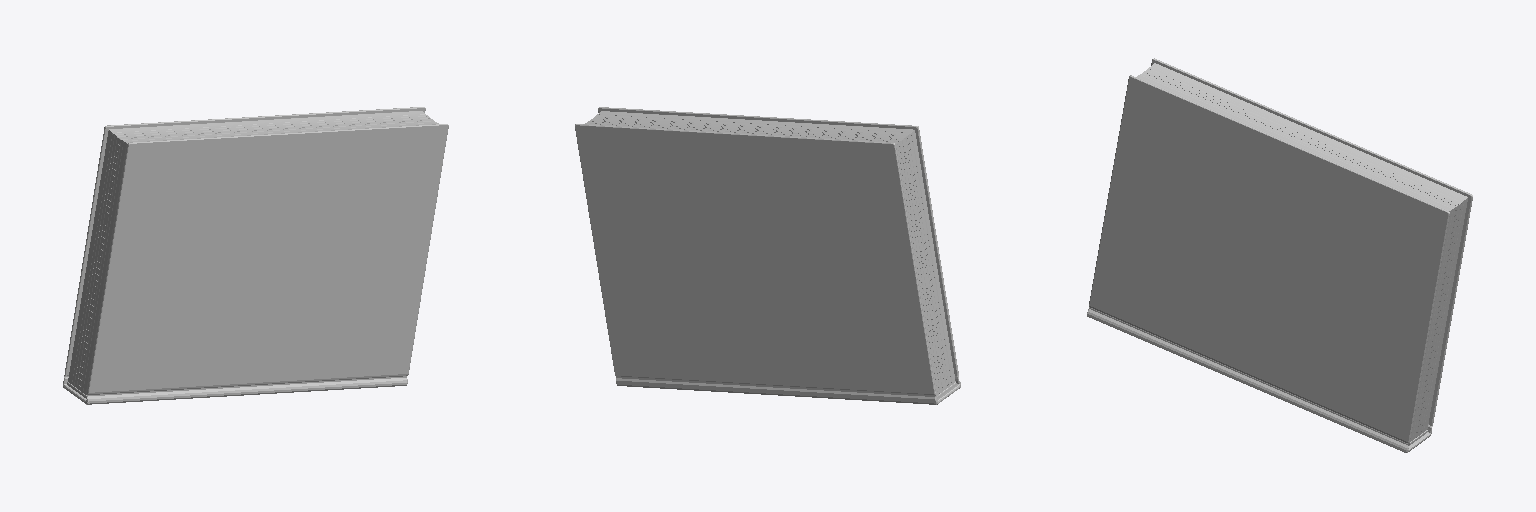
File: book_b.obj
3 views of the same model, side by side, from view 1: azimuth 30°, elevation 25°; view 2: azimuth 150°, elevation 25°; view 3: azimuth 330°, elevation 25° (orthographic).
Visible parts, largest first — view 1: book001; view 2: book001; view 3: book001.
Part boxes in pixels (x1,y1,x2,y2): book001: (63,107,448,404); book001: (575,107,960,404); book001: (1087,58,1472,452).
Size of the model in its own units: 85.16 by 69.67 by 10.16.